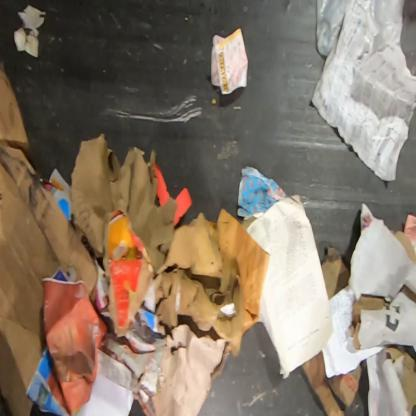cardboard: (71, 132, 271, 415), (0, 57, 99, 415), (347, 230, 415, 357), (300, 349, 364, 415), (380, 347, 415, 415), (320, 244, 350, 301)
soft_plastic: (315, 0, 406, 56)
